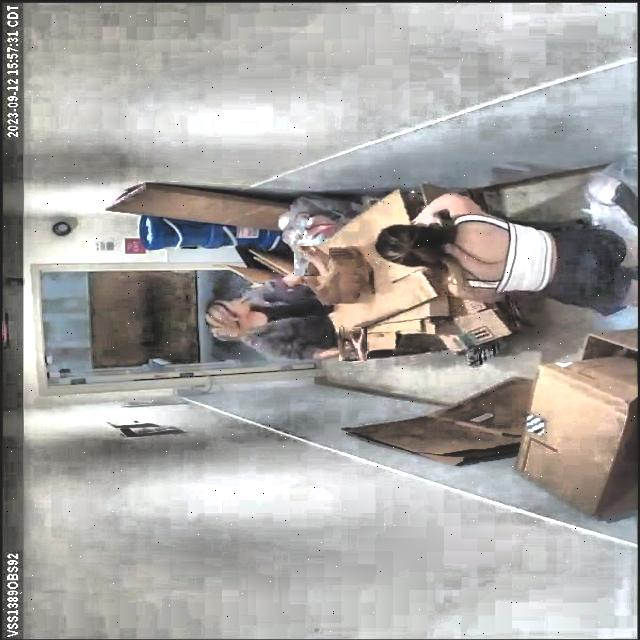not-gloved: (295, 243, 328, 277), (337, 327, 369, 358)
